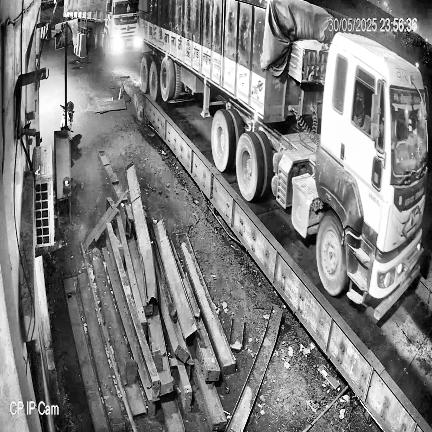tyre: (317, 210, 348, 296), (236, 132, 265, 201), (212, 109, 236, 171), (256, 131, 273, 196), (160, 58, 175, 101), (229, 109, 244, 144), (149, 61, 160, 101), (141, 54, 152, 93), (174, 63, 183, 99)
